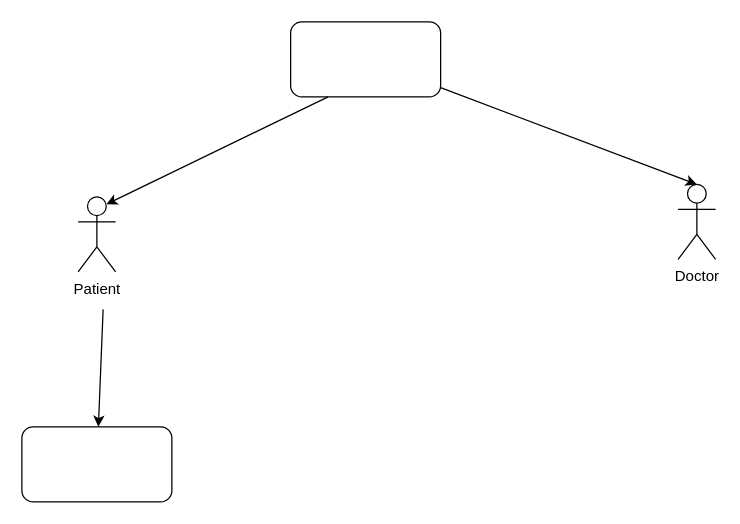
This 740x524 diagram has some shape labels left out. The shapes that lost their labels are listed below. From the top down, each one's centre as x and y in pixels, then its label:
At point 365,59: "Firebase Authentication Service (Email + PW)".
At point 96,464: "Blood Pressure Module".
